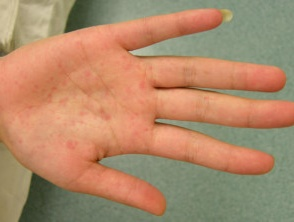SJS-TEN: (0, 20, 175, 181)
